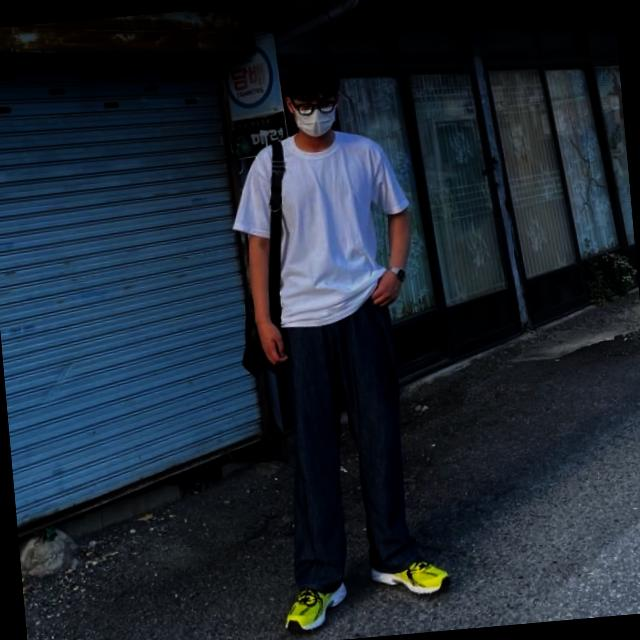denimpants: (270, 298, 425, 596)
shortsleeve: (227, 117, 418, 332)
